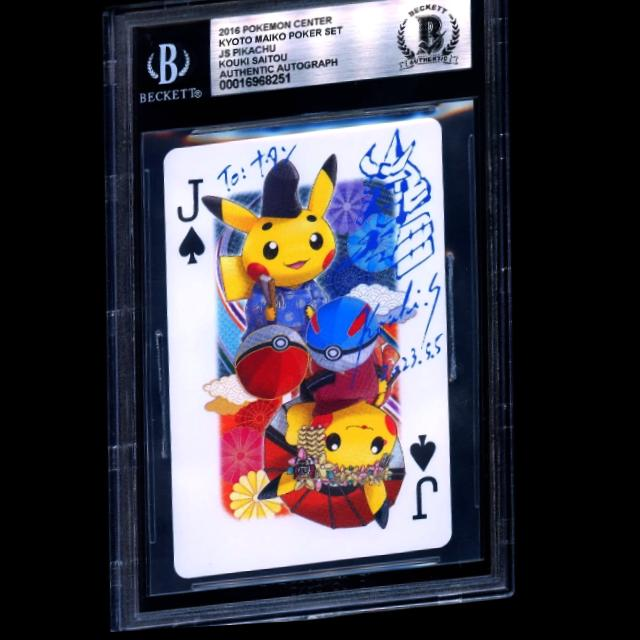bgs_label_auto: (208, 0, 472, 100)
bgs_slab: (100, 0, 520, 634)
card: (163, 123, 457, 583)
